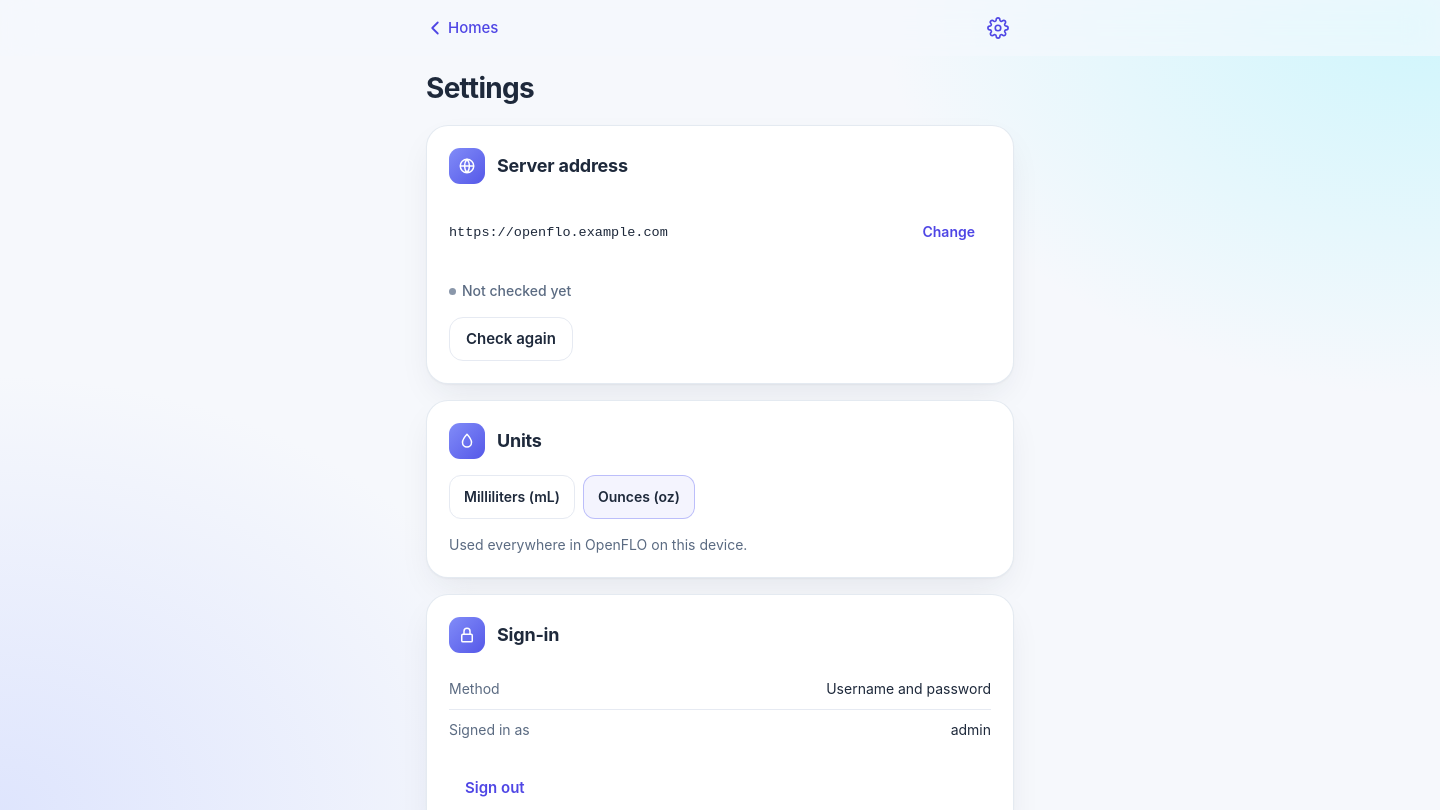
Test: Settings → Sign-in › shows the method and the actor, and signs out
Check: the text "Username and password" is shown, box [826,679,991,699]
Check: the text "admin" is shown, box [951,720,991,740]
Click the button "Sign out": click(495, 788) [449,766,541,809]
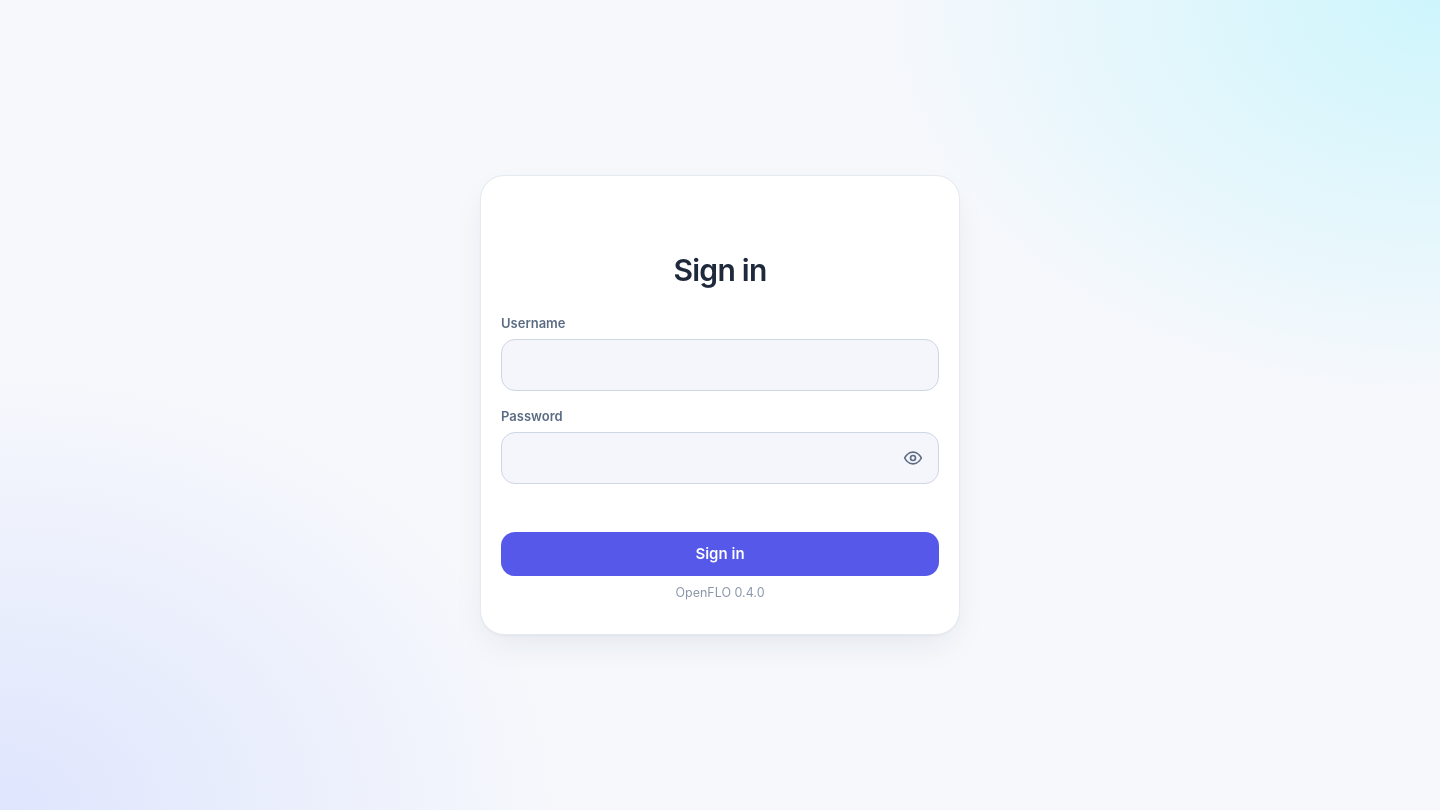
Check: the heading "Sign in" is shown, box [674,252,766,288]
